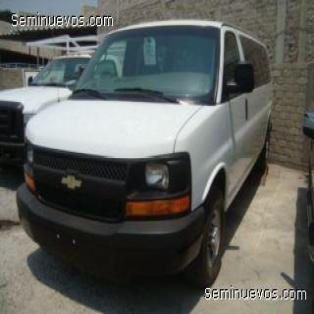Auto: (12, 22, 278, 290)
